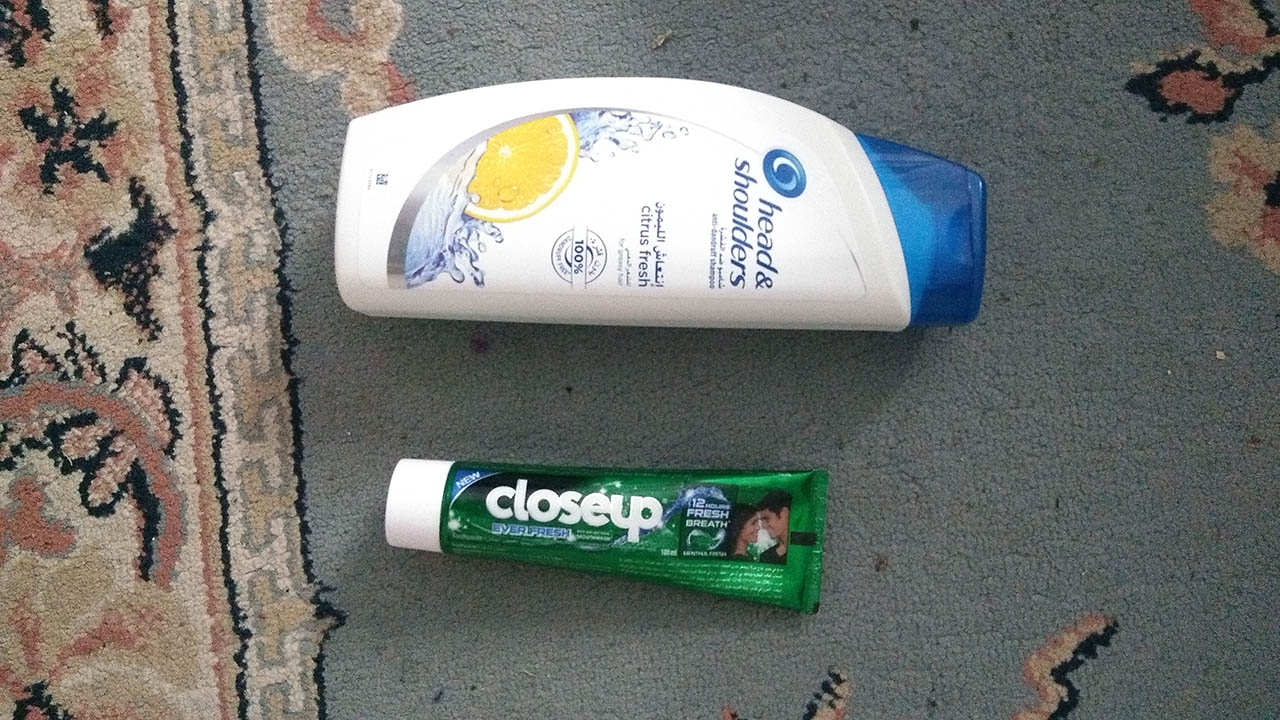Toothpaste-Closeup 3.04$: (382, 446, 833, 616)
shampoo-Lemon 3.5$: (331, 88, 996, 345)
